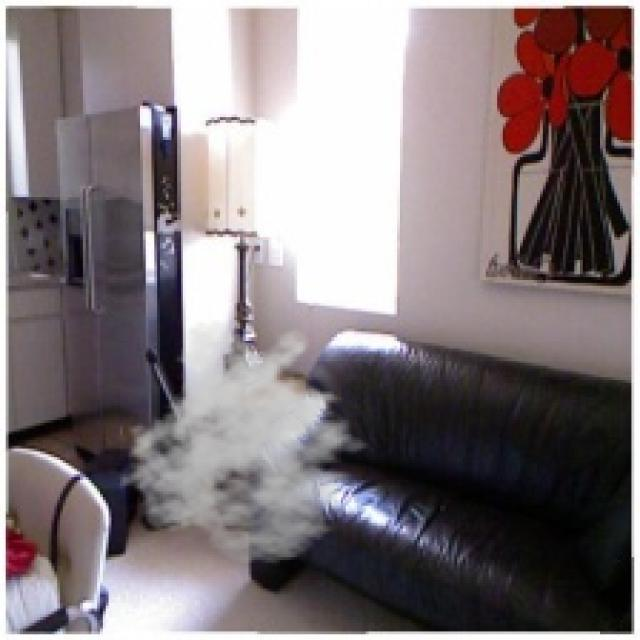Smoke: (117, 317, 383, 566)
